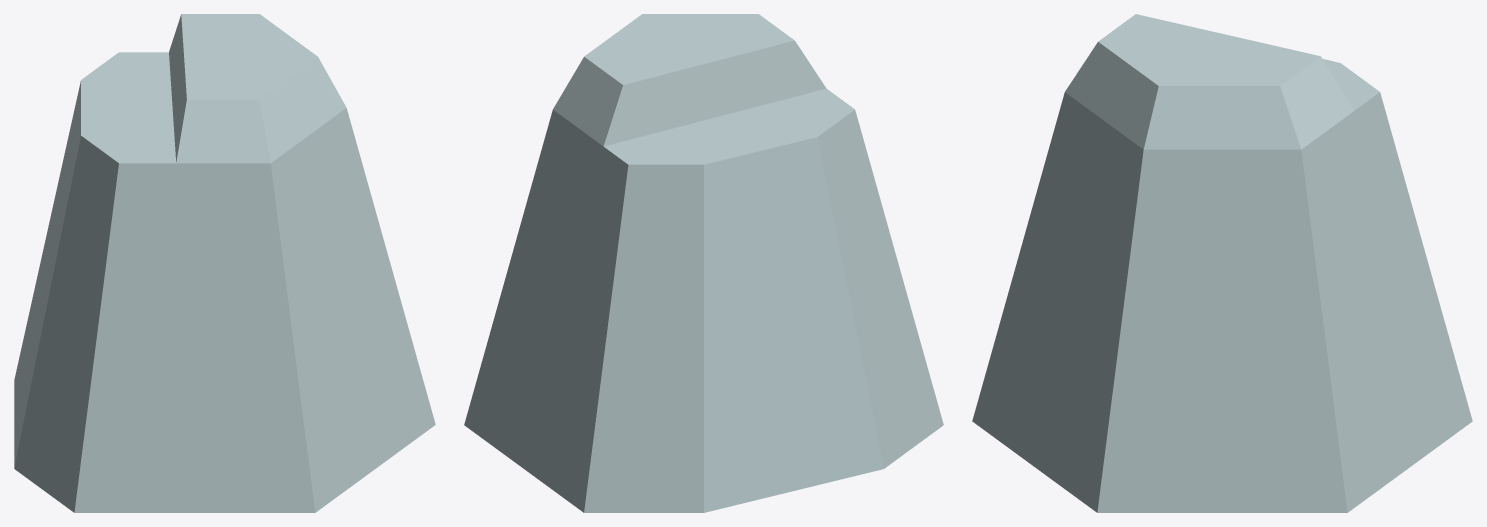
Rendered from stone_tallE.glb.
3 renders of one model, left to right at view 1: azimuth 30°, elevation 25°; view 2: azimuth 150°, elevation 25°; view 3: azimuth 270°, elevation 25°, orthographic. The views are drawn at different scales.
Parts seen in each view (by area): view 1: stone_tallE; view 2: stone_tallE; view 3: stone_tallE.
Part boxes in pixels (left/top/right/bottom): stone_tallE: left=14, top=14, right=435, bottom=512; stone_tallE: left=464, top=14, right=943, bottom=512; stone_tallE: left=972, top=14, right=1472, bottom=512.
Bounding box in the file's own units: 0.4562 × 0.4438 × 0.5268.
